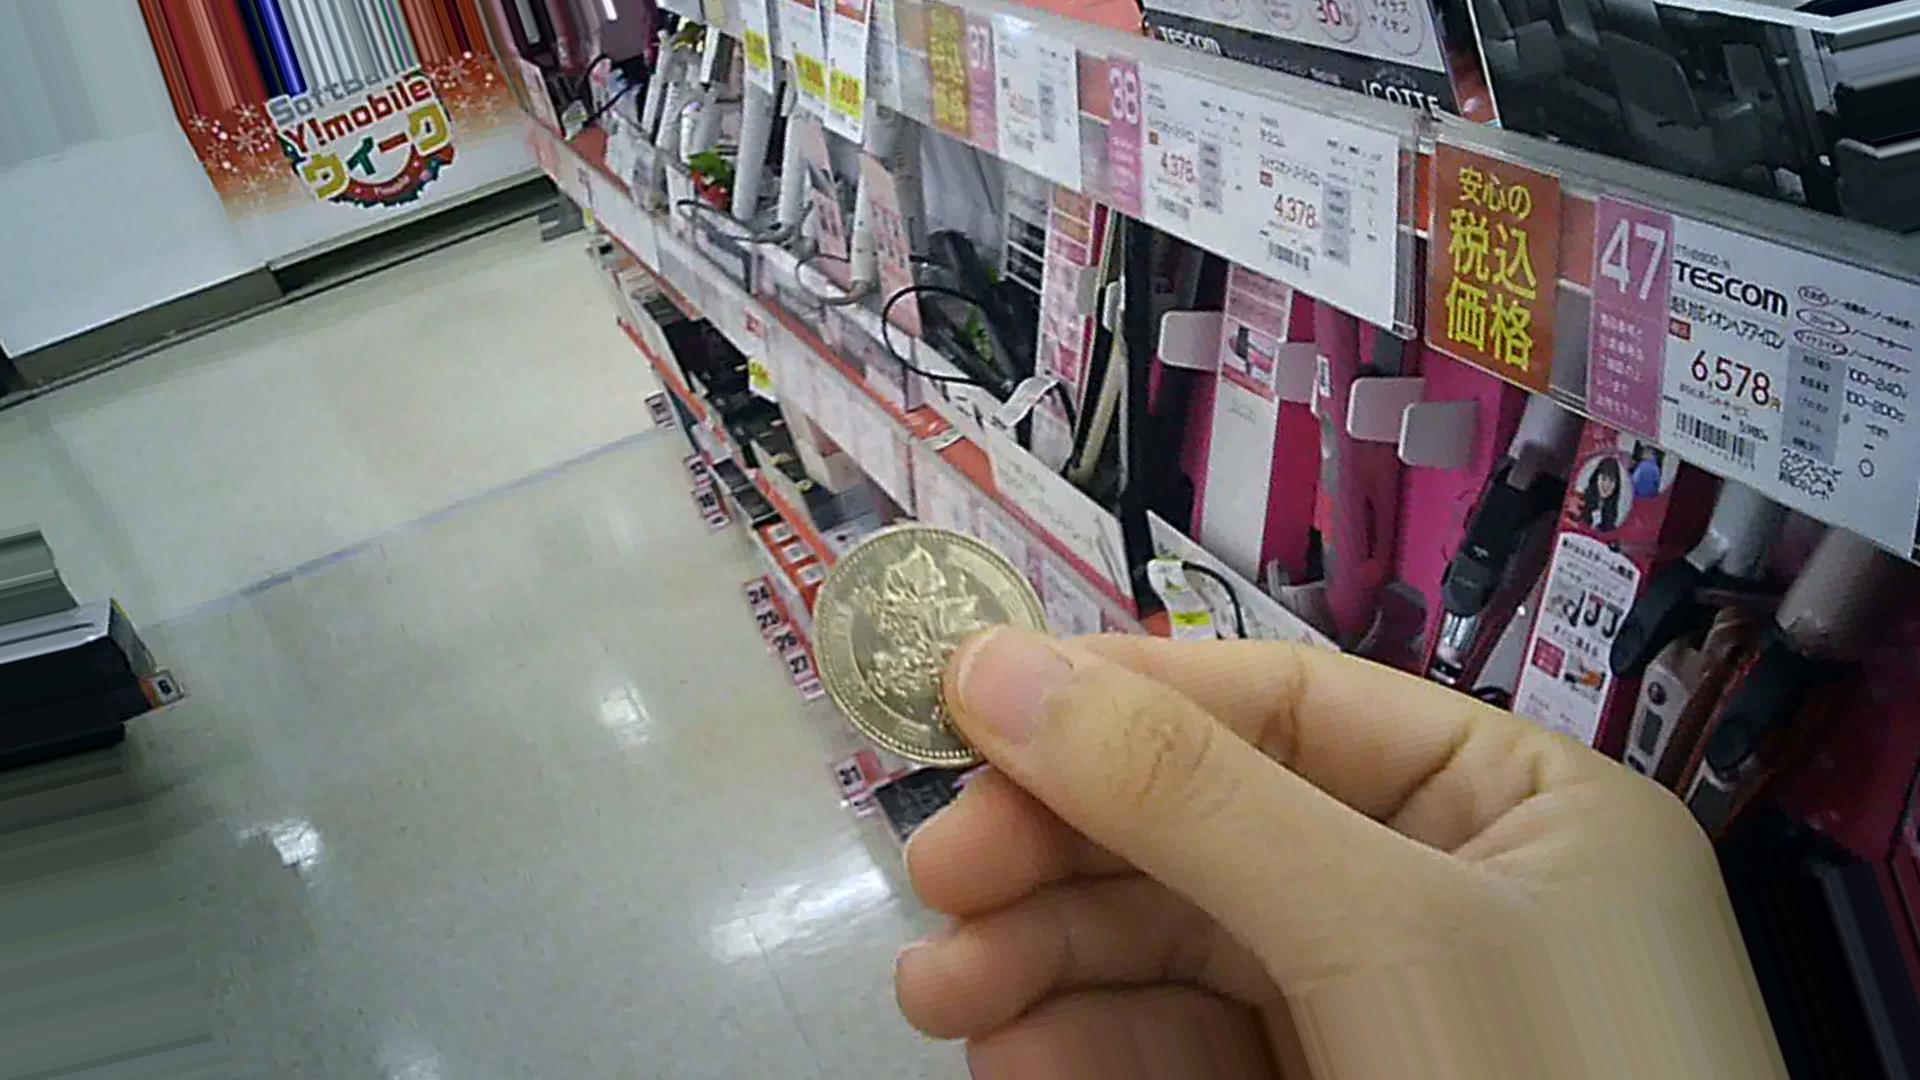500 Yen: (818, 518, 1060, 773)
